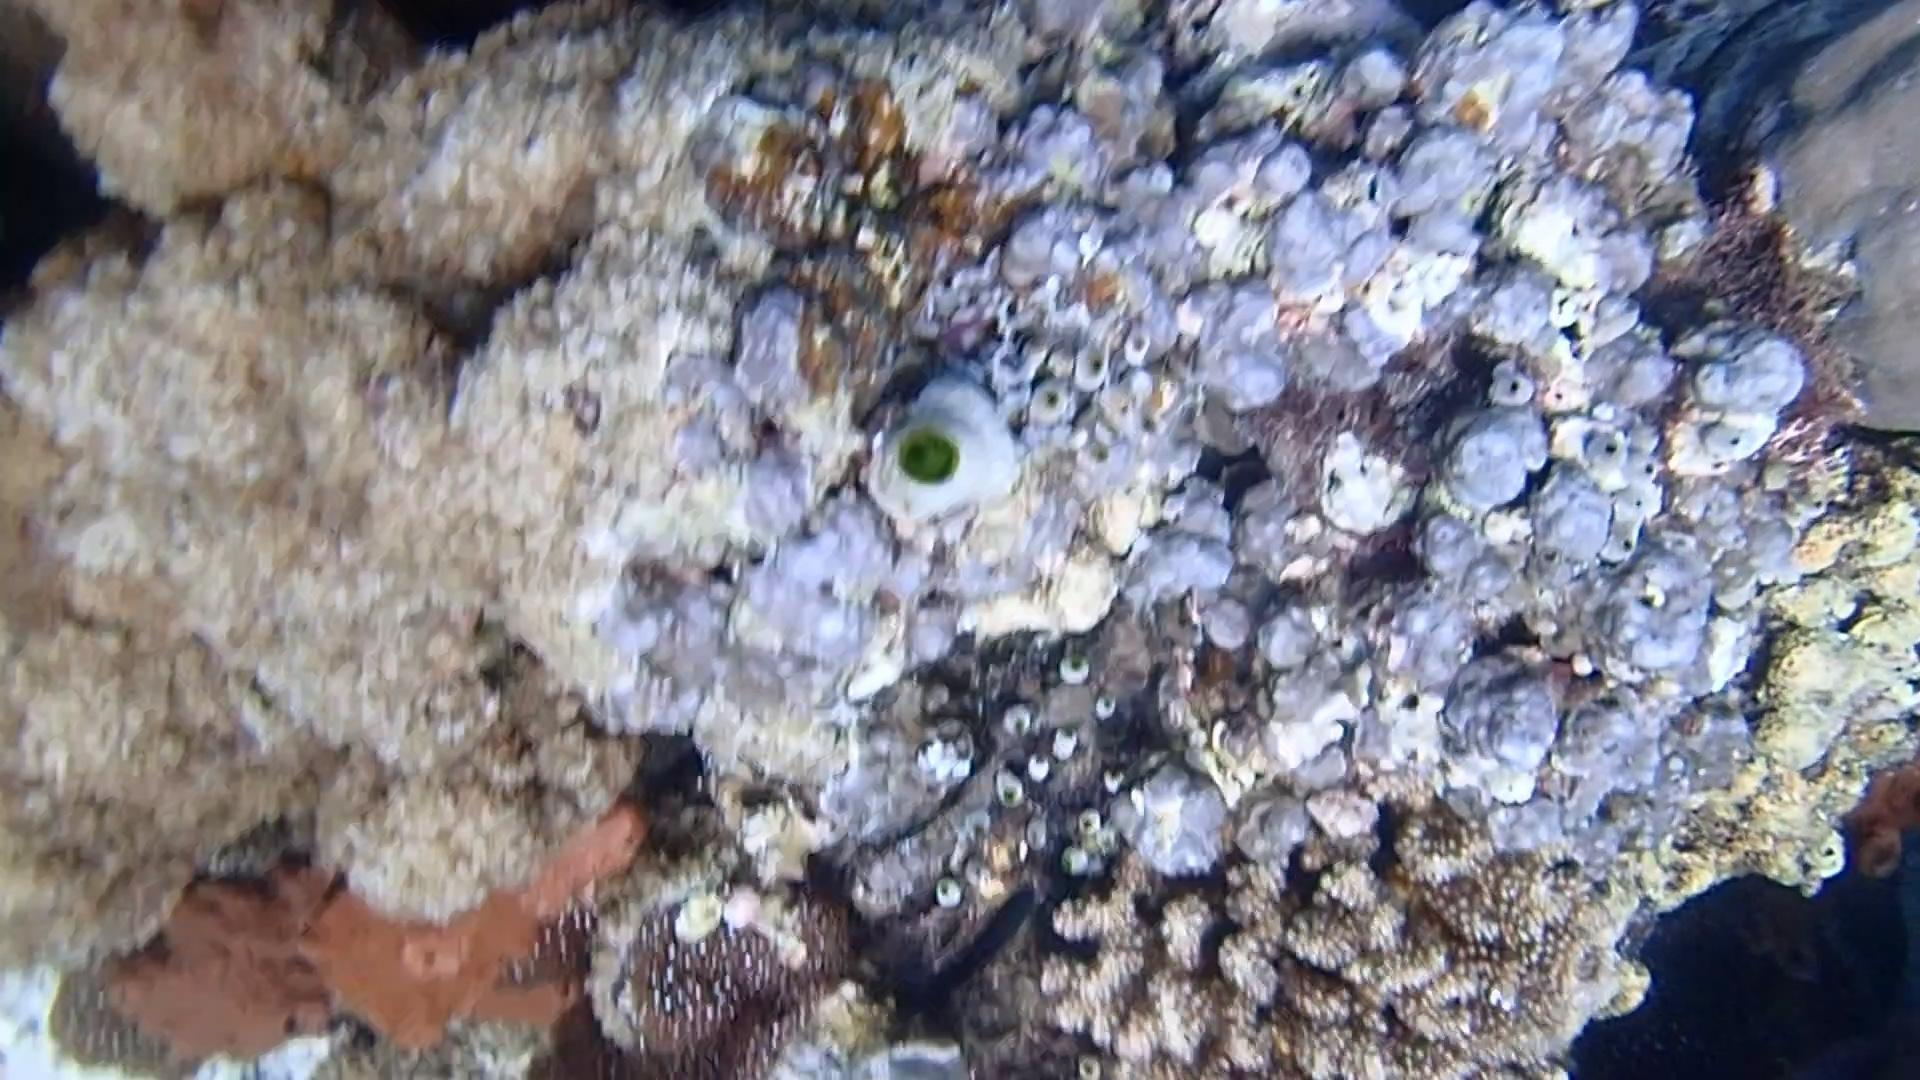Dark Fish: (891, 878, 1046, 1022)
